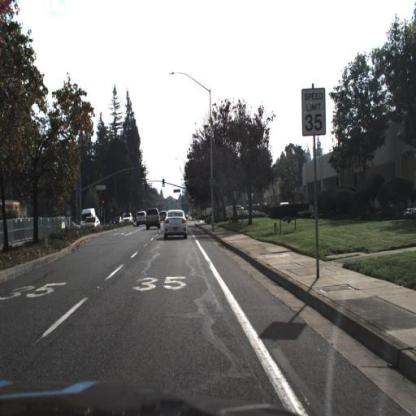car: (164, 208, 193, 243), (147, 208, 165, 235), (82, 215, 103, 231), (81, 206, 95, 229), (83, 216, 101, 230), (138, 209, 148, 229), (158, 211, 170, 224), (122, 212, 133, 224), (115, 214, 124, 225)
trafficLight-Green: (163, 178, 167, 188)
trafficLight-RedLeft: (145, 179, 150, 189), (102, 200, 106, 211)
truck: (79, 209, 96, 230)
